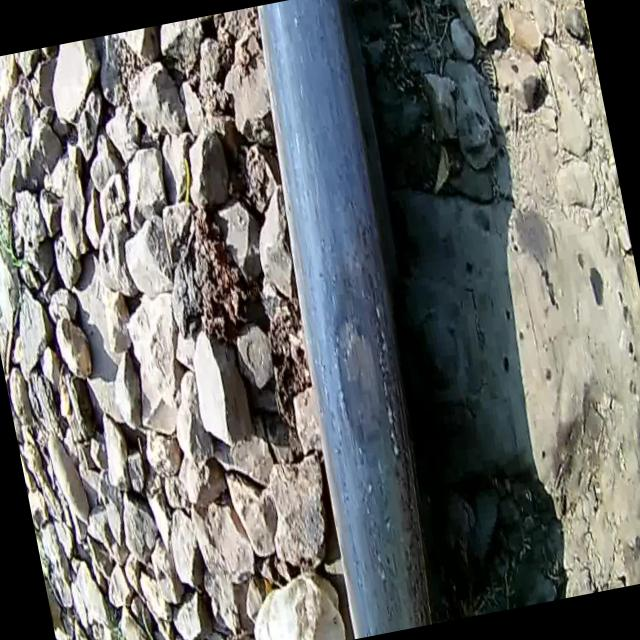Squats: (221, 0, 481, 640)
